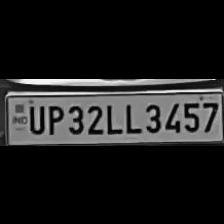2: (84, 100, 104, 134)
3: (140, 99, 162, 133), (64, 102, 84, 134)
4: (162, 98, 180, 132)
5: (180, 98, 200, 132)
7: (201, 98, 219, 132)
L: (118, 99, 140, 133), (103, 100, 121, 134)
P: (44, 101, 64, 135)
U: (24, 102, 43, 134)
